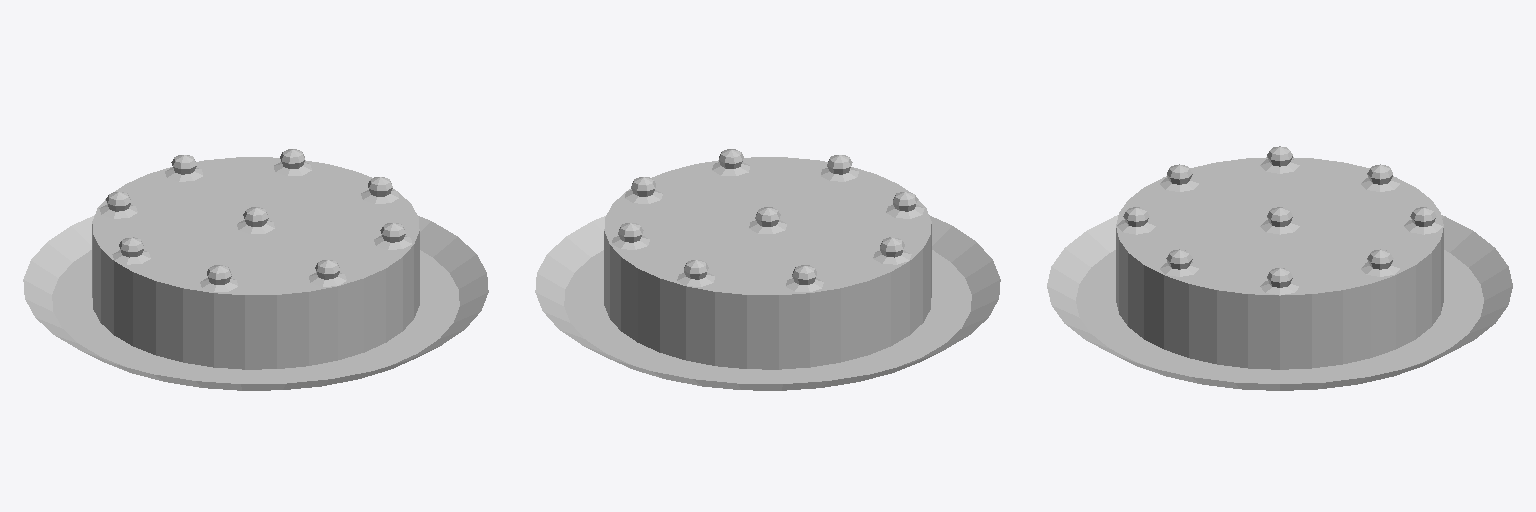
File: cake.obj
The picture shows the model from 3 angles: view 1: azimuth 30°, elevation 25°; view 2: azimuth 150°, elevation 25°; view 3: azimuth 270°, elevation 25°; orthographic projection.
Visible parts, largest first — view 1: Cake_Cylinder.001, plate_Cylinder, Sphere.006_Sphere.001, Cherry_Sphere.001, Sphere.008_Sphere.001, Sphere.005_Sphere.001, Sphere.001, Sphere.002_Sphere.001, Sphere.003_Sphere.001, Sphere.007_Sphere.001, Sphere.004_Sphere.001; view 2: Cake_Cylinder.001, plate_Cylinder, Sphere.005_Sphere.001, Cherry_Sphere.001, Sphere.007_Sphere.001, Sphere.006_Sphere.001, Sphere.001, Sphere.002_Sphere.001, Sphere.004_Sphere.001, Sphere.008_Sphere.001, Sphere.003_Sphere.001; view 3: Cake_Cylinder.001, plate_Cylinder, Sphere.001, Cherry_Sphere.001, Sphere.005_Sphere.001, Sphere.006_Sphere.001, Sphere.002_Sphere.001, Sphere.007_Sphere.001, Sphere.008_Sphere.001, Sphere.003_Sphere.001, Sphere.004_Sphere.001.
Boxes of the visible parts, x1=… form: Cake_Cylinder.001: x1=92, y1=157, x2=419, y2=369; plate_Cylinder: x1=23, y1=215, x2=488, y2=390; Sphere.006_Sphere.001: x1=274, y1=149, x2=311, y2=175; Cherry_Sphere.001: x1=237, y1=207, x2=274, y2=233; Sphere.008_Sphere.001: x1=200, y1=265, x2=237, y2=291; Sphere.005_Sphere.001: x1=374, y1=223, x2=411, y2=249; Sphere.001: x1=361, y1=177, x2=398, y2=203; Sphere.002_Sphere.001: x1=112, y1=237, x2=150, y2=264; Sphere.003_Sphere.001: x1=165, y1=155, x2=202, y2=181; Sphere.007_Sphere.001: x1=99, y1=192, x2=137, y2=218; Sphere.004_Sphere.001: x1=309, y1=260, x2=346, y2=286; Cake_Cylinder.001: x1=604, y1=157, x2=931, y2=369; plate_Cylinder: x1=535, y1=215, x2=1000, y2=390; Sphere.005_Sphere.001: x1=712, y1=149, x2=749, y2=175; Cherry_Sphere.001: x1=749, y1=207, x2=786, y2=233; Sphere.007_Sphere.001: x1=786, y1=265, x2=823, y2=291; Sphere.006_Sphere.001: x1=612, y1=223, x2=649, y2=249; Sphere.001: x1=625, y1=177, x2=662, y2=203; Sphere.002_Sphere.001: x1=873, y1=237, x2=911, y2=264; Sphere.004_Sphere.001: x1=821, y1=155, x2=858, y2=181; Sphere.008_Sphere.001: x1=886, y1=192, x2=924, y2=218; Sphere.003_Sphere.001: x1=677, y1=260, x2=714, y2=286; Cake_Cylinder.001: x1=1116, y1=157, x2=1443, y2=369; plate_Cylinder: x1=1047, y1=215, x2=1512, y2=390; Sphere.001: x1=1260, y1=268, x2=1299, y2=294; Cherry_Sphere.001: x1=1260, y1=207, x2=1299, y2=234; Sphere.005_Sphere.001: x1=1160, y1=249, x2=1198, y2=276; Sphere.006_Sphere.001: x1=1361, y1=249, x2=1399, y2=276; Sphere.002_Sphere.001: x1=1260, y1=146, x2=1299, y2=173; Sphere.007_Sphere.001: x1=1361, y1=164, x2=1399, y2=191; Sphere.008_Sphere.001: x1=1160, y1=164, x2=1198, y2=191; Sphere.003_Sphere.001: x1=1404, y1=207, x2=1442, y2=234; Sphere.004_Sphere.001: x1=1117, y1=207, x2=1155, y2=234.
Bounding box in the file's own units: 1.14 × 0.2607 × 1.14.